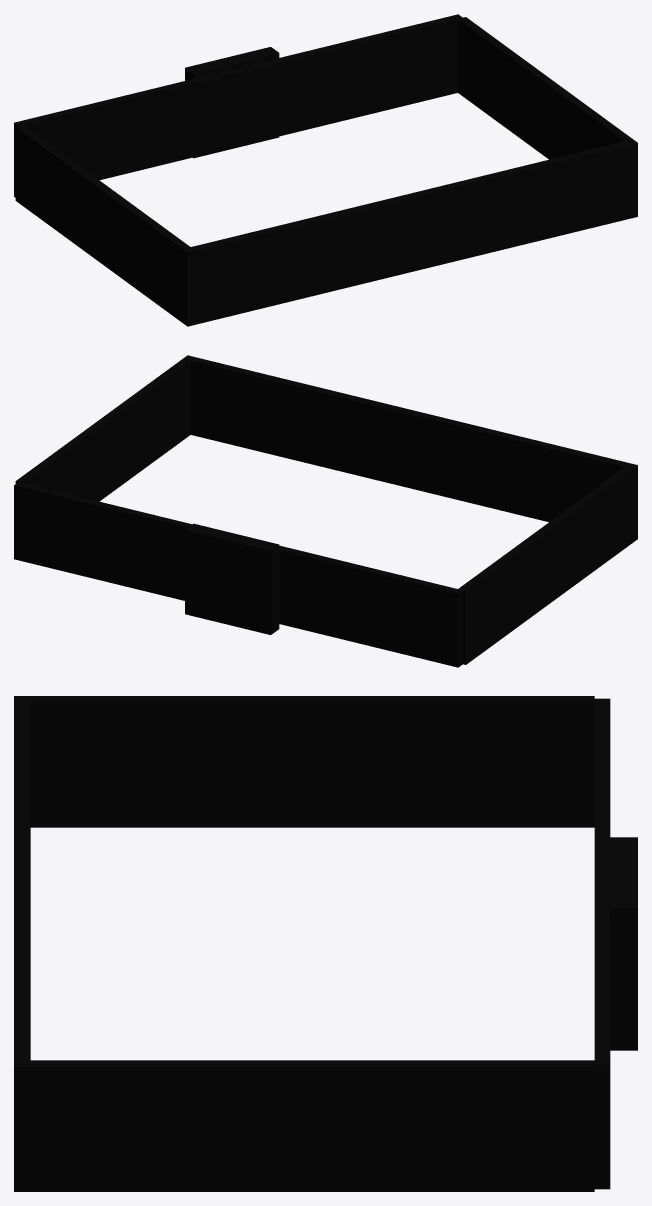
File: body.obj
3 renders of one model, top to bottom at view 1: azimuth 30°, elevation 25°; view 2: azimuth 150°, elevation 25°; view 3: azimuth 270°, elevation 25°, orthographic. The views are drawn at different scales.
Parts seen in each view (by area): view 1: rear_strap, front_strap, right_strap, left_strap, buckle; view 2: rear_strap, front_strap, right_strap, left_strap, buckle; view 3: left_strap, right_strap, front_strap, rear_strap, buckle.
Part boxes in pixels (bbox=[...]): rear_strap: bbox=[186, 140, 634, 325]; front_strap: bbox=[14, 14, 462, 197]; right_strap: bbox=[15, 125, 195, 326]; left_strap: bbox=[458, 17, 637, 217]; buckle: bbox=[185, 47, 279, 158]; rear_strap: bbox=[186, 356, 634, 521]; front_strap: bbox=[14, 482, 462, 667]; right_strap: bbox=[458, 463, 637, 664]; left_strap: bbox=[15, 355, 193, 501]; buckle: bbox=[185, 523, 279, 634]; left_strap: bbox=[14, 1060, 594, 1191]; right_strap: bbox=[14, 696, 594, 827]; front_strap: bbox=[594, 698, 610, 1189]; rear_strap: bbox=[14, 698, 30, 1064]; buckle: bbox=[609, 837, 637, 1050].
Bounding box in the file's own units: 8.92 × 1.6 × 6.34.
